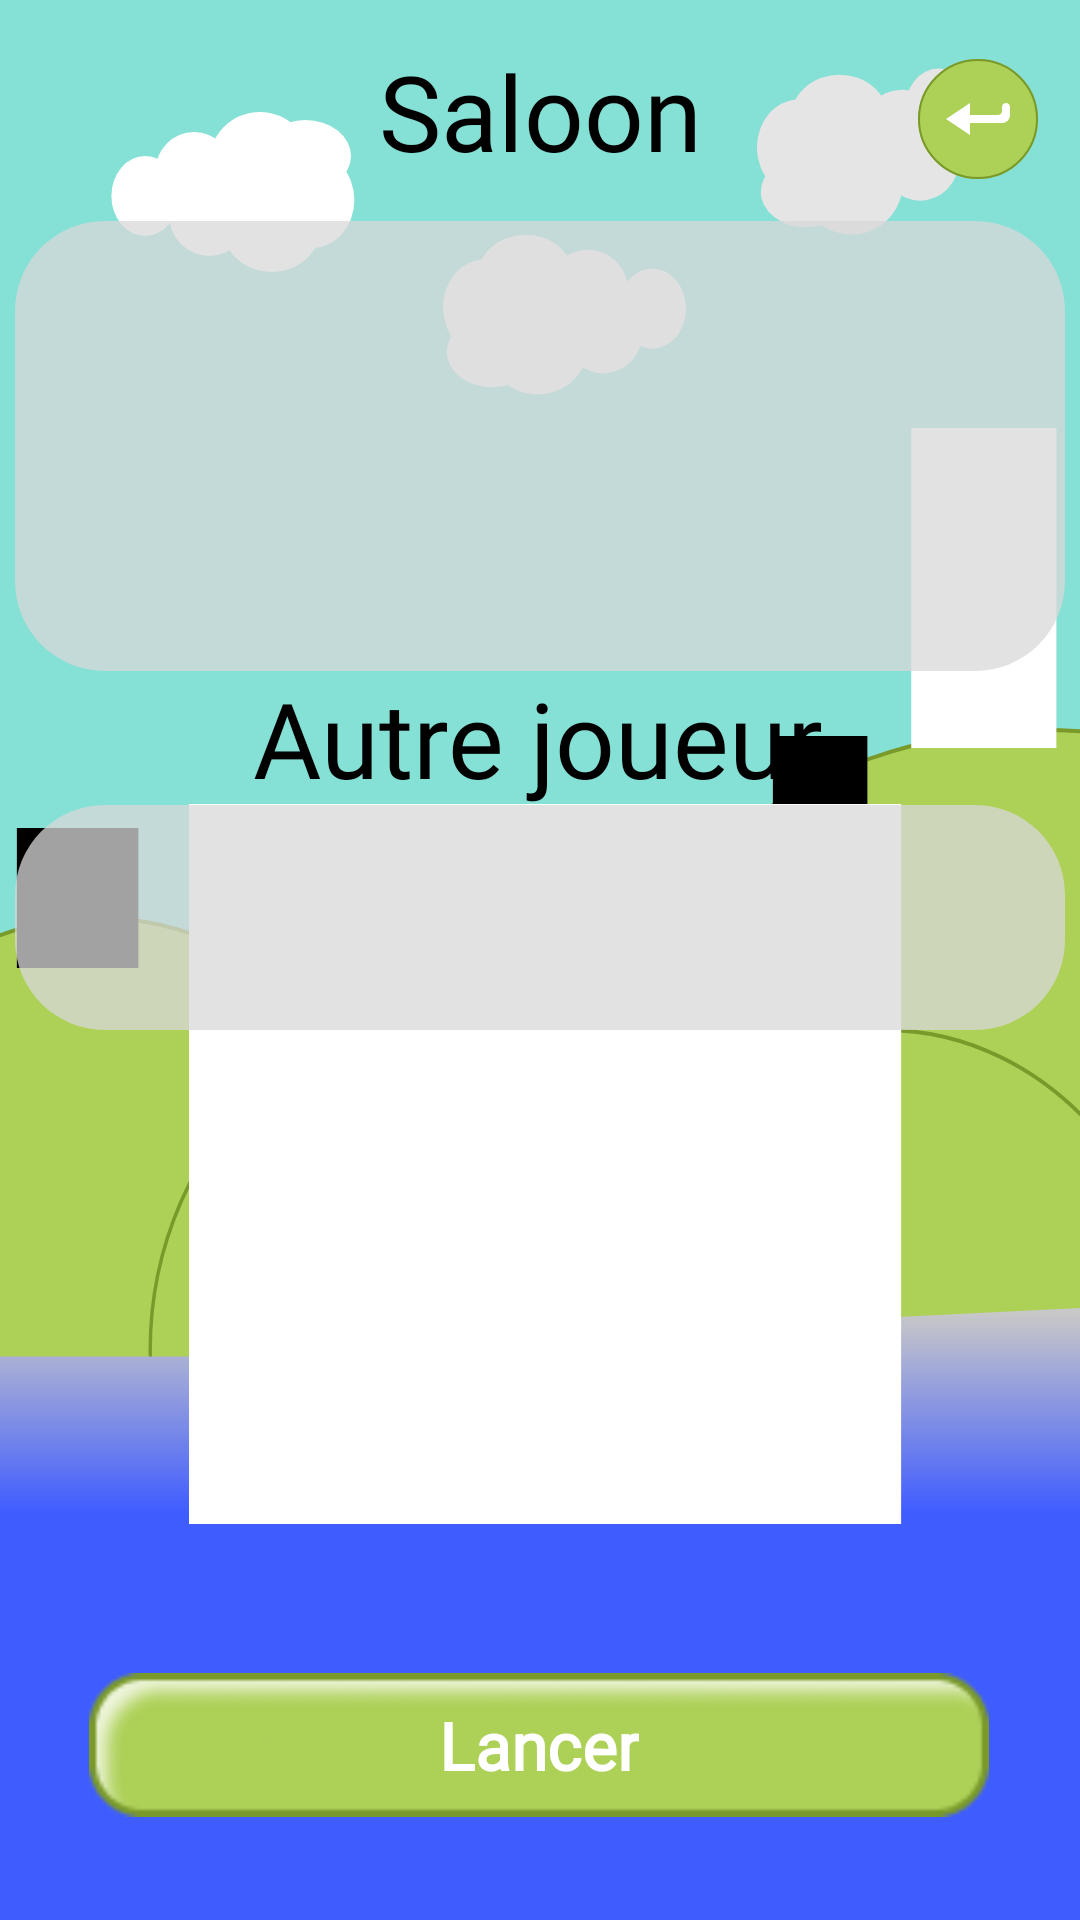

Point at icon controls on the screen. Image size 1080 x 1920, points as point (x, y).
btnback: point (978, 119)
